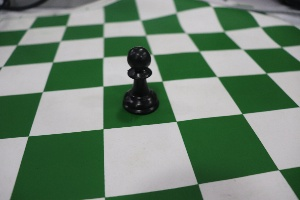black_pawn: (113, 32, 162, 119)
